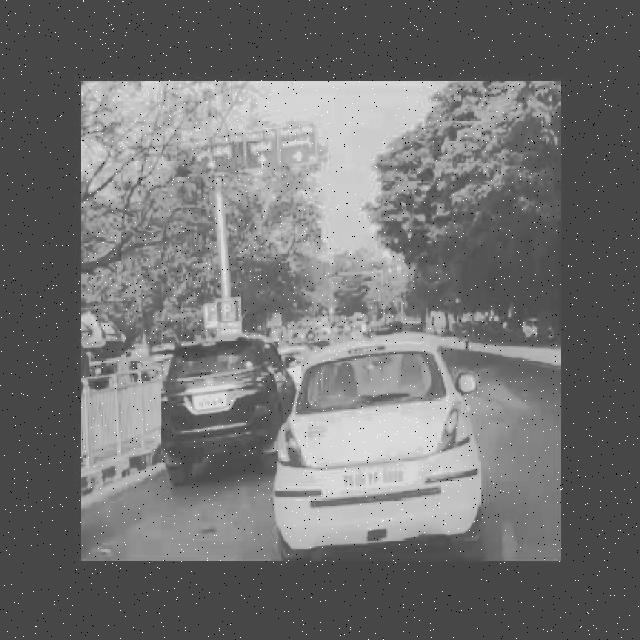Car: (282, 350, 494, 562), (157, 337, 294, 489)
